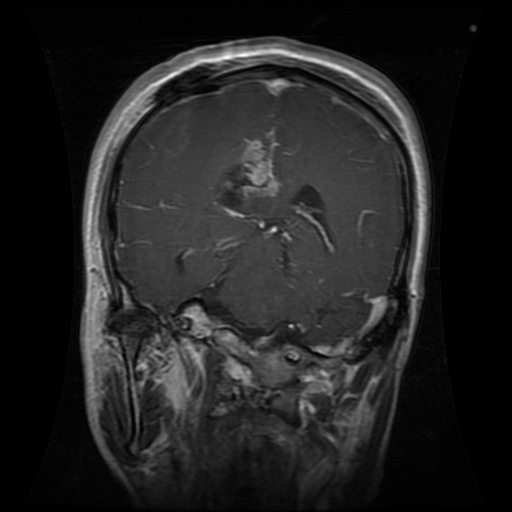glioma: (211, 122, 286, 218)
